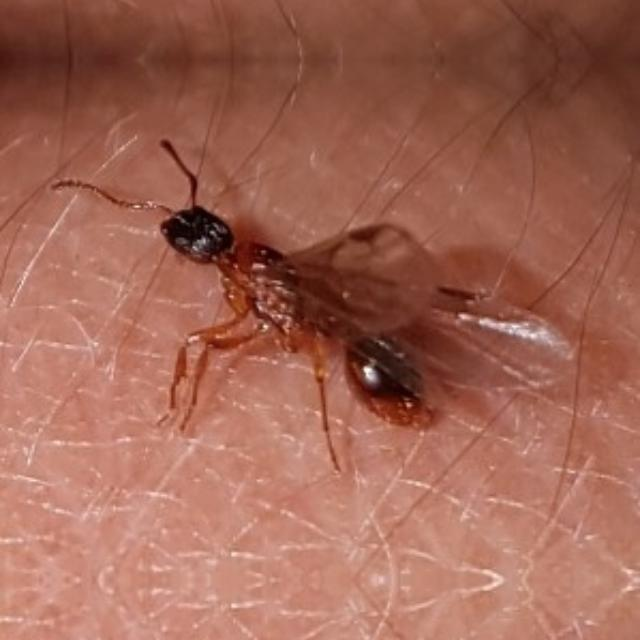Myrmica: (99, 113, 477, 460)
